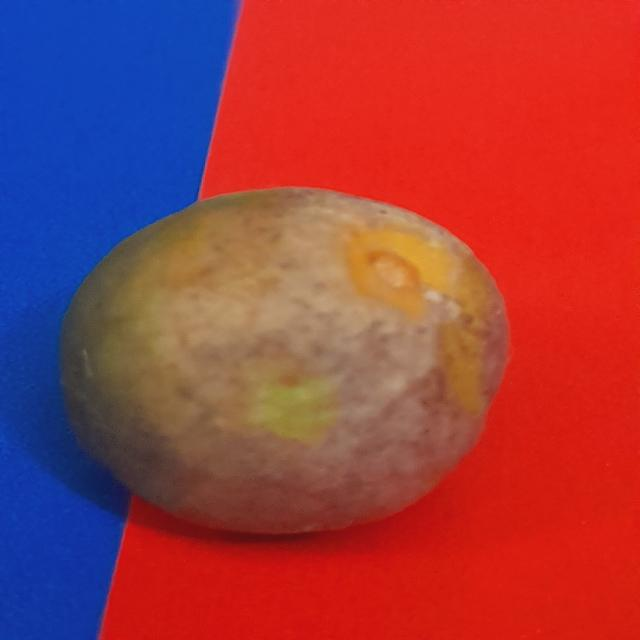thrips: (47, 182, 518, 544)
